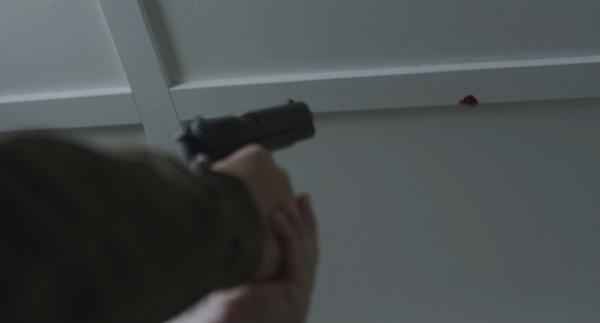Gun: (179, 99, 318, 173)
